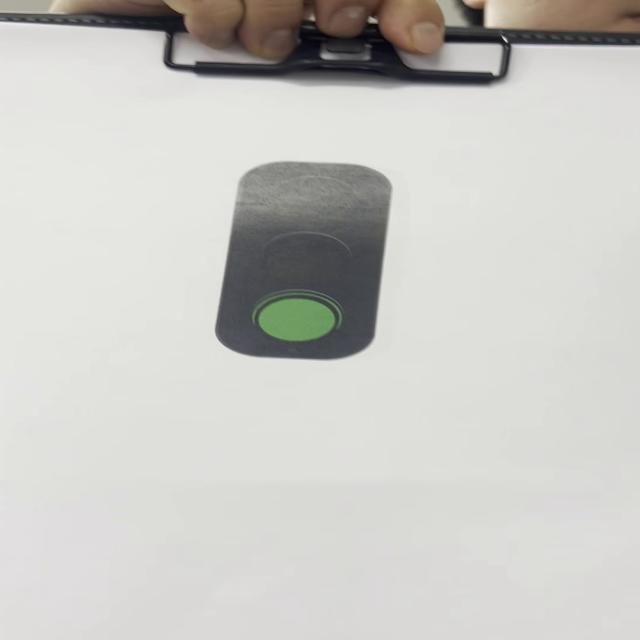green: (219, 161, 397, 362)
